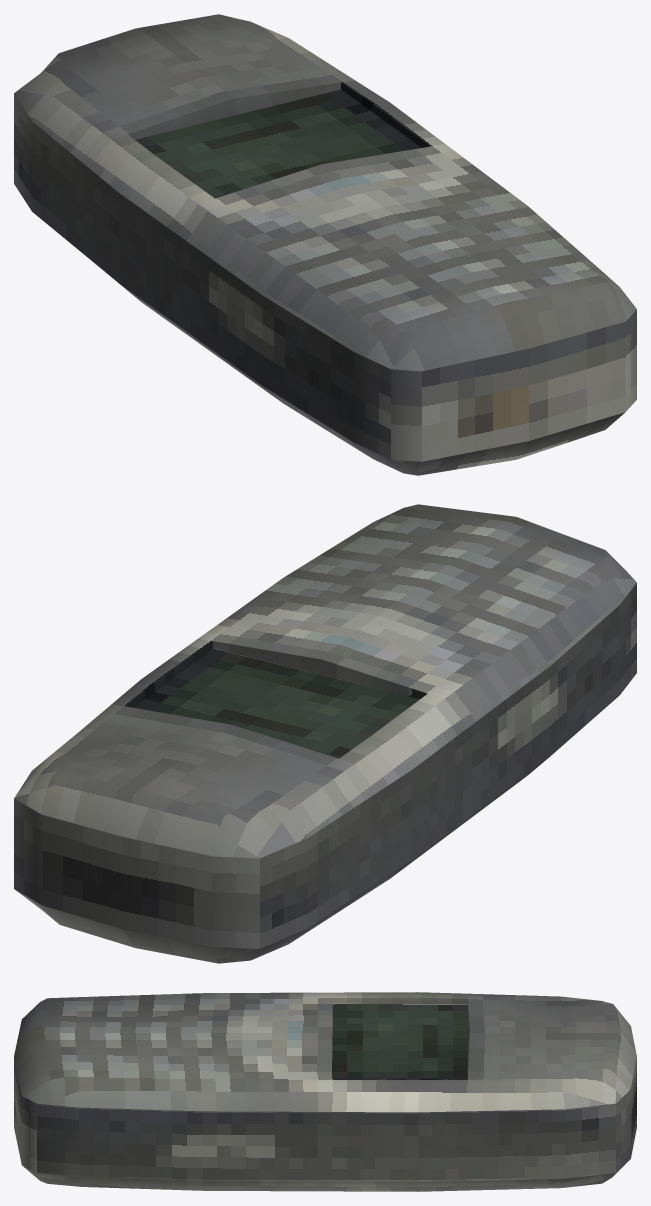
Rendered from cell_phone_1.glb.
3 views of the same model, one above another, from view 1: azimuth 30°, elevation 25°; view 2: azimuth 150°, elevation 25°; view 3: azimuth 270°, elevation 25° (orthographic). The views are drawn at different scales.
Parts seen in each view (by area): view 1: cell_phone_1; view 2: cell_phone_1; view 3: cell_phone_1.
Part boxes in pixels (<box>): cell_phone_1: <box>14,14,636,475</box>; cell_phone_1: <box>14,504,636,963</box>; cell_phone_1: <box>14,992,636,1191</box>.
Size of the model in its own units: 0.0877 by 0.0437 by 0.2106.
Materials: 1 (1 with a texture image).
